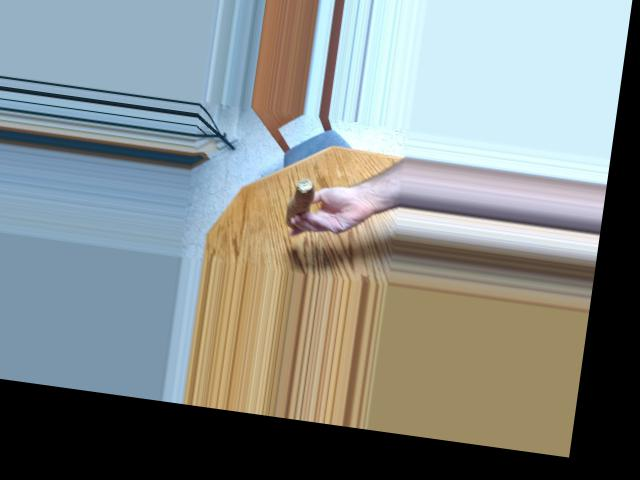sweet_potato: (281, 169, 330, 234)
